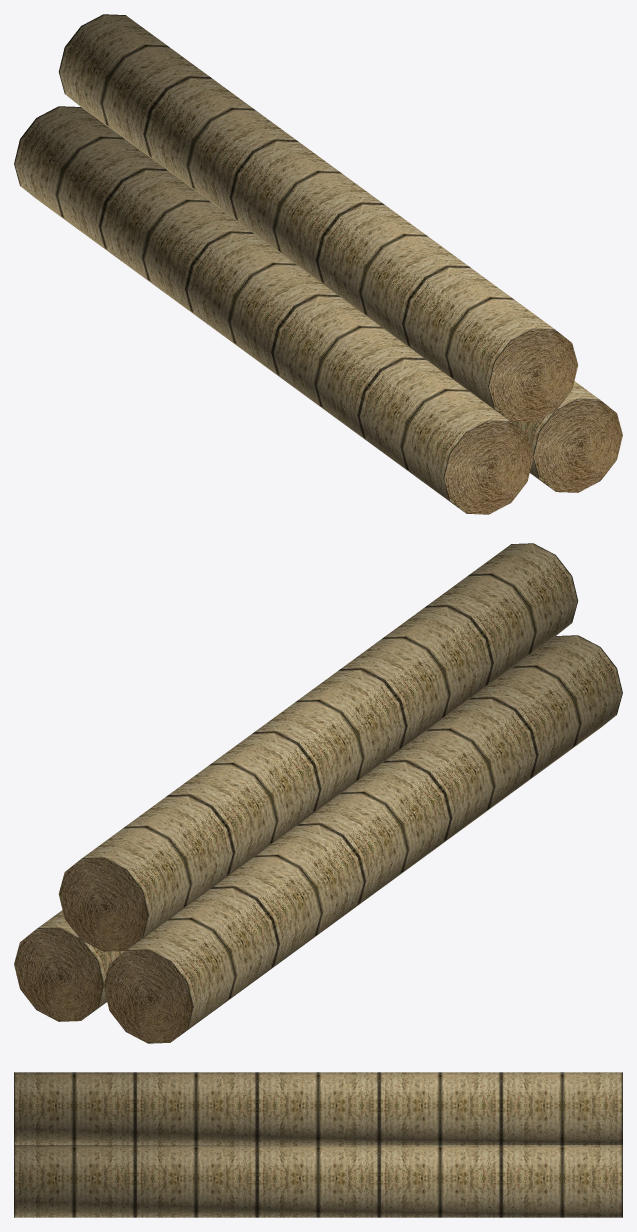
The model's file is hay-bale-straw-3x10-cbj_LOD01.gltf.
3 views of the same model, one above another, from view 1: azimuth 30°, elevation 25°; view 2: azimuth 150°, elevation 25°; view 3: azimuth 270°, elevation 25° (orthographic). The views are drawn at different scales.
Parts seen in each view (by area): view 1: Cube.001; view 2: Cube.001; view 3: Cube.001.
Boxes of the visible parts, x1,y1,x2,y2 form: Cube.001: (14, 14, 622, 514); Cube.001: (14, 543, 622, 1043); Cube.001: (14, 1072, 622, 1217).
Bounding box in the file's own units: 3.6 × 3.36 × 15.
